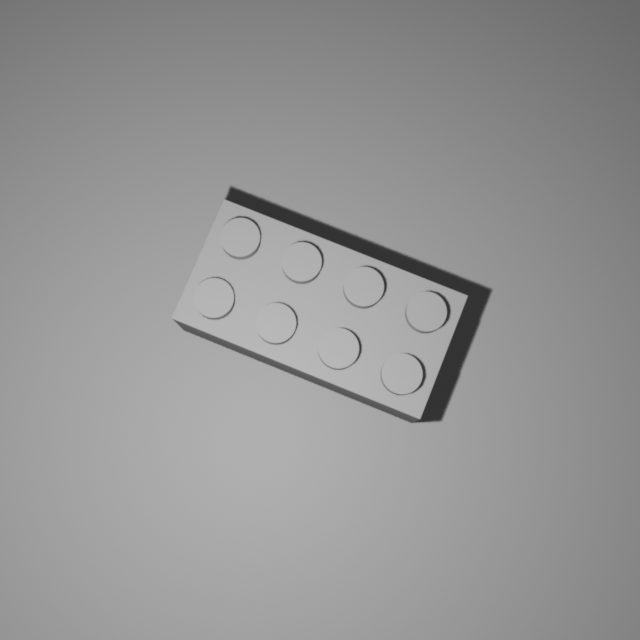lego_2x4: (169, 195, 470, 423)
